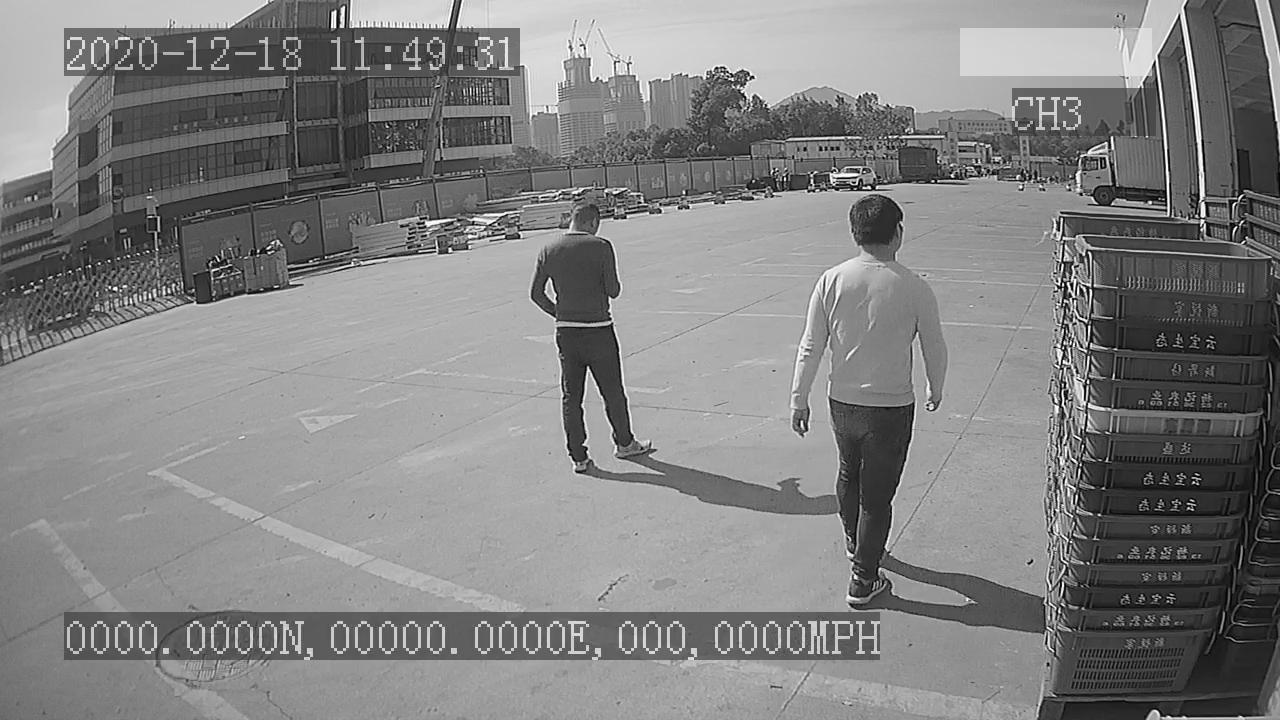person: (784, 188, 951, 610), (524, 201, 658, 479)
